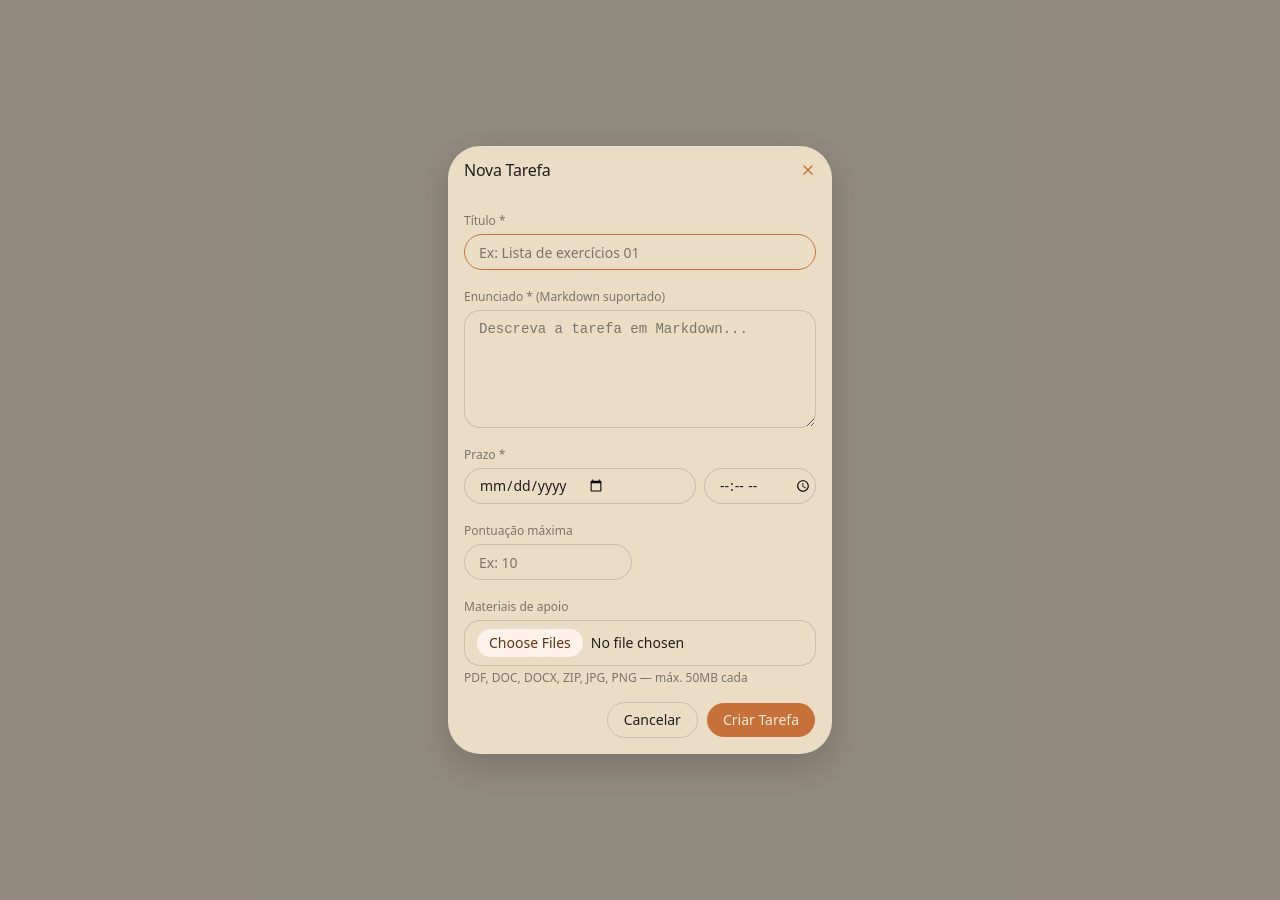
Test: TaskFormDialog › shows validation error for empty title on submit
Click the button "Criar Tarefa" at (761,720), box x1=706 y1=702 x2=816 y2=738
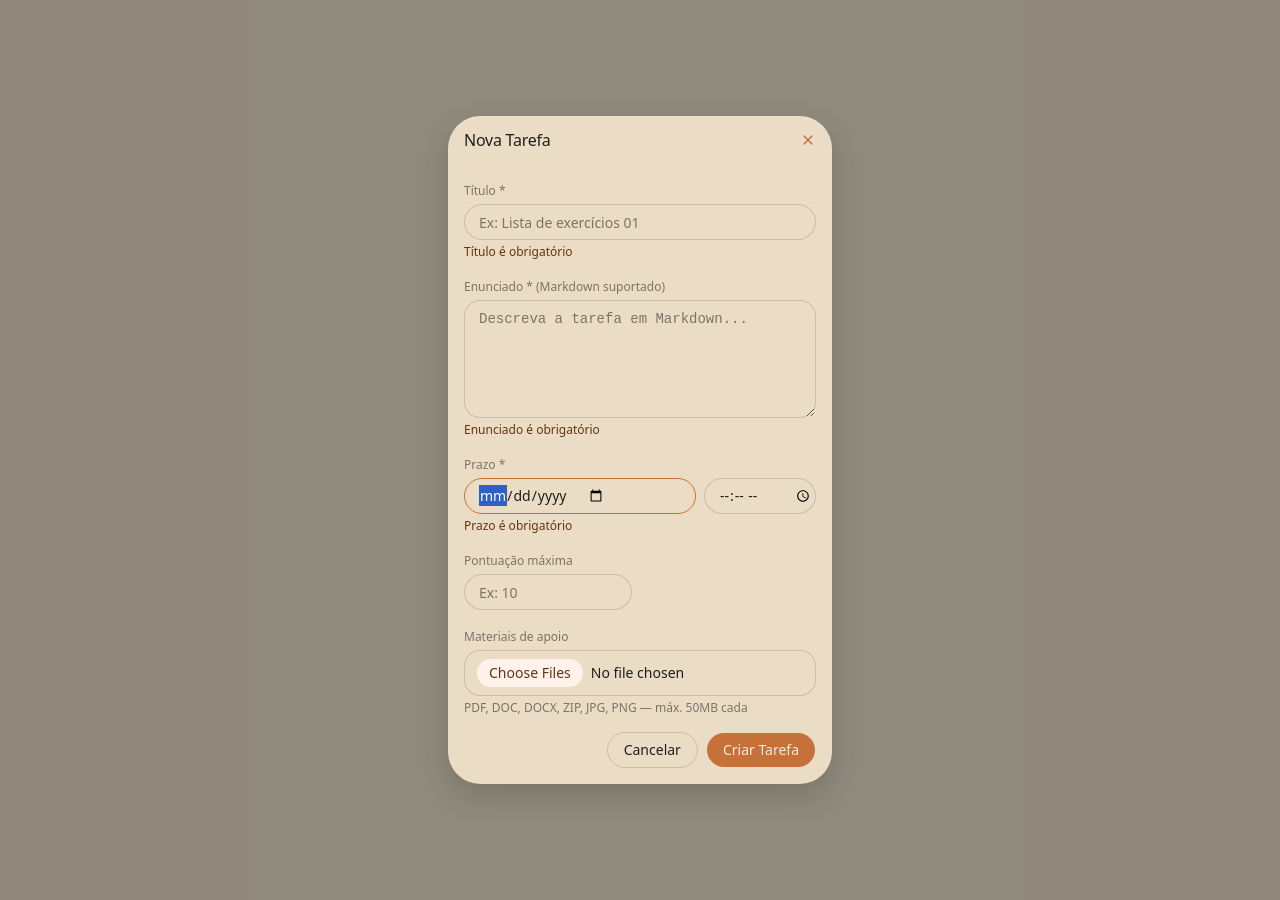
expect the text "Título é obrigatório" is shown: met, box x1=464 y1=243 x2=573 y2=260
